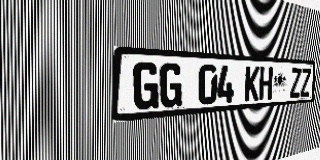0: (198, 64, 218, 105)
4: (217, 65, 235, 104)
G: (133, 62, 159, 110), (159, 63, 183, 108)
H: (259, 66, 273, 100)
K: (244, 66, 260, 101)
Z: (290, 68, 301, 98), (300, 68, 311, 97)
